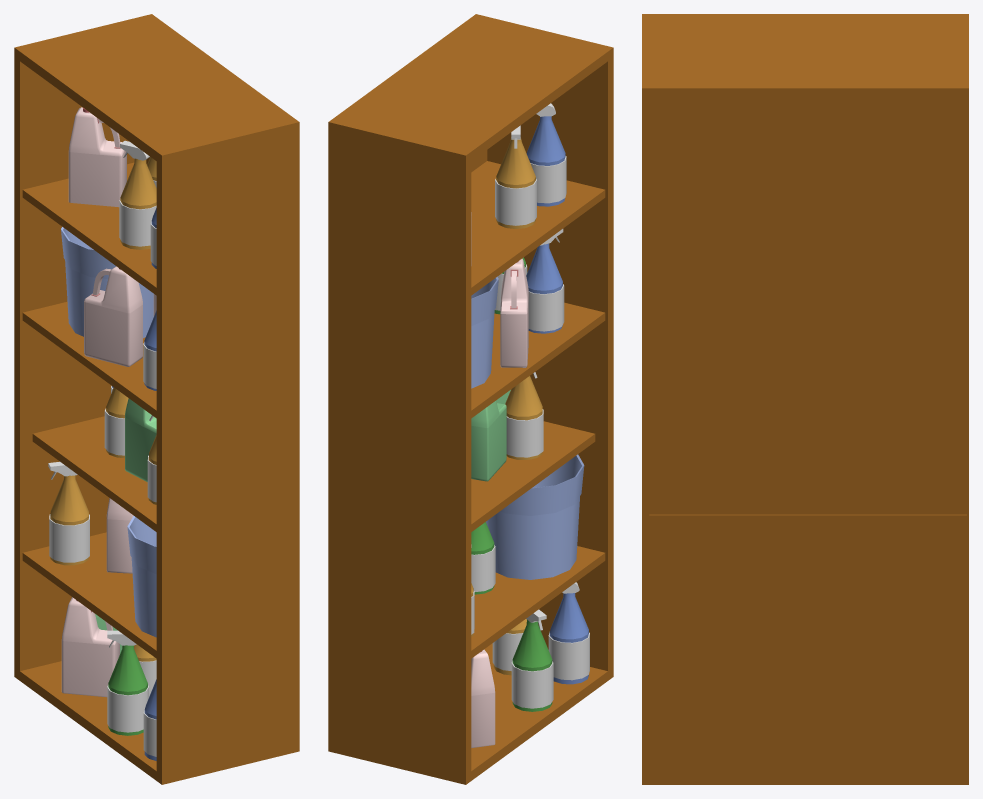
File: Janitor Closet final2.fbx
3 renders of one model, left to right at view 1: azimuth 30°, elevation 25°; view 2: azimuth 150°, elevation 25°; view 3: azimuth 270°, elevation 25°, orthographic. The views are drawn at different scales.
Parts seen in each view (by area): view 1: Janitor Closet Final; view 2: Janitor Closet Final; view 3: Janitor Closet Final.
Part boxes in pixels (bbox=[...]): Janitor Closet Final: bbox=[14, 14, 299, 784]; Janitor Closet Final: bbox=[328, 14, 613, 784]; Janitor Closet Final: bbox=[642, 14, 968, 784].
Bounding box in the file's own units: 58.69 × 255 × 109.
